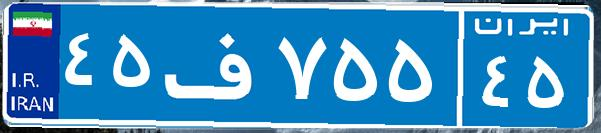4: (57, 26, 110, 107), (475, 38, 525, 113)
5: (385, 28, 445, 110), (330, 28, 385, 110), (110, 28, 158, 105), (525, 38, 570, 115)
7: (273, 28, 330, 110)
ف: (158, 15, 273, 115)
